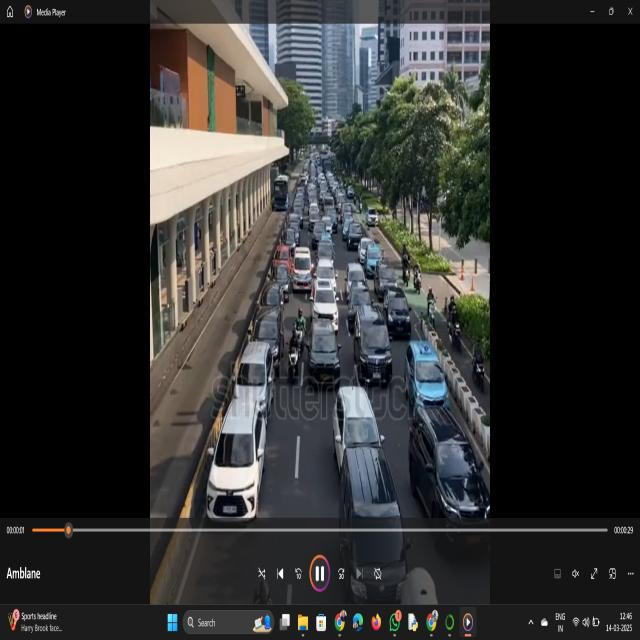Ambulance: (289, 239, 312, 290)
